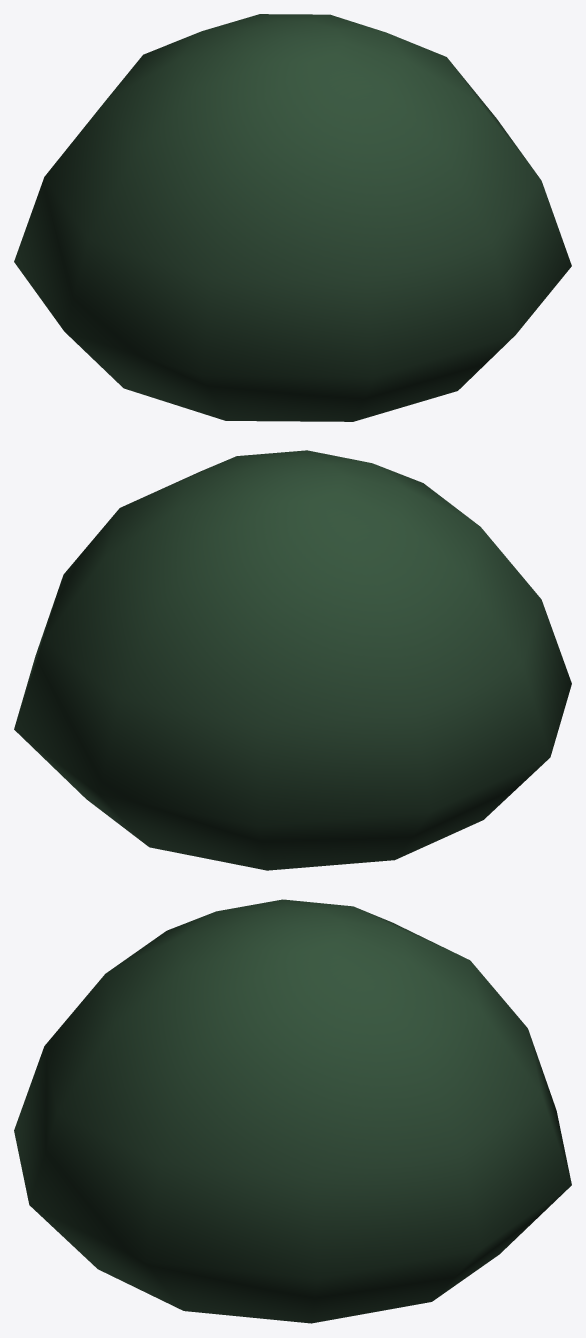
Rendered from plants-bushes-twigs-round-bush_v2.glb.
3 views of the same model, one above another, from view 1: azimuth 30°, elevation 25°; view 2: azimuth 150°, elevation 25°; view 3: azimuth 270°, elevation 25° (orthographic). The views are drawn at different scales.
Visible parts, largest first — view 1: Round Bush_v2; view 2: Round Bush_v2; view 3: Round Bush_v2.
Boxes of the visible parts, x1,y1,x2,y2 form: Round Bush_v2: (14, 14, 571, 421); Round Bush_v2: (14, 450, 571, 870); Round Bush_v2: (14, 899, 571, 1323).
Size of the model in its own units: 1 by 0.6545 by 0.9779.
